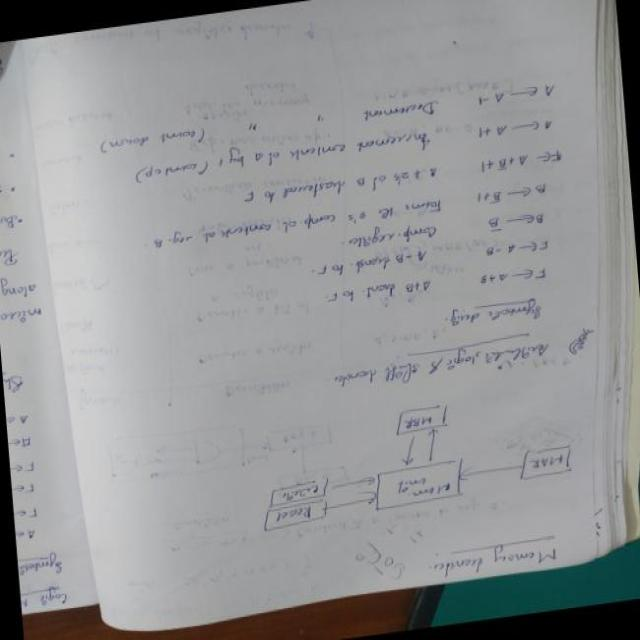Figure Detection - v3 Dataset Version2: (238, 382, 589, 532)
